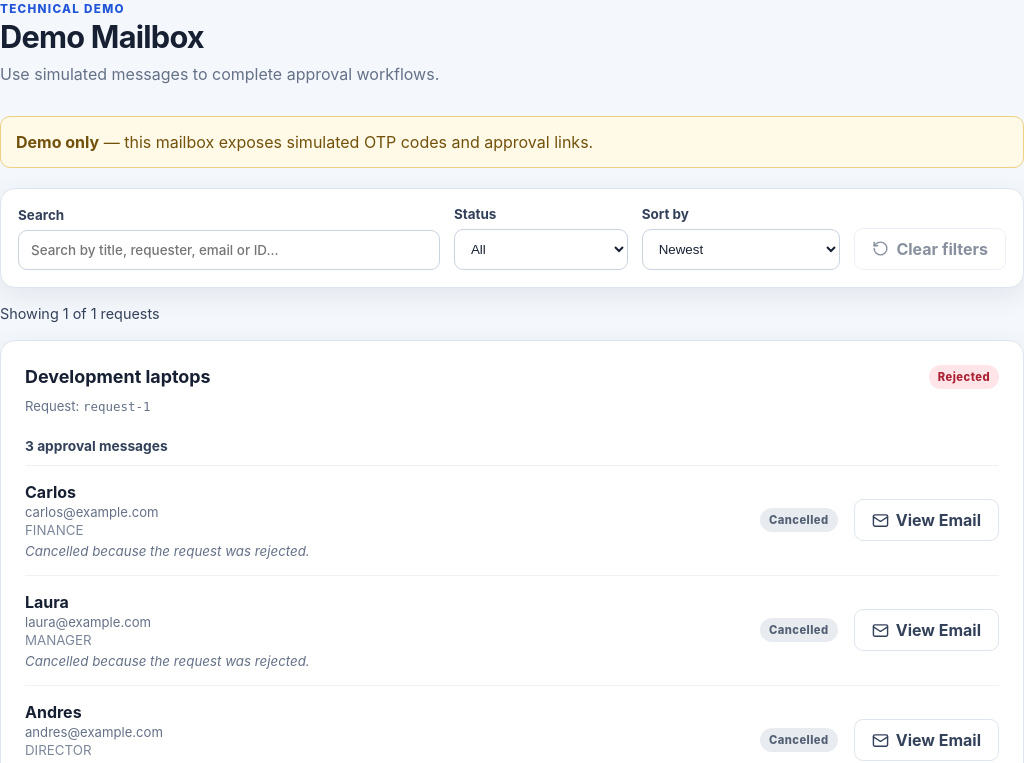
Test: MockMailPage › for request REJECTED and approver PENDING shows Request closed
Click the button "View Email" in the row of "carlos@example.com" at point(926, 520), box [854,499,999,541]
(page scrolled)
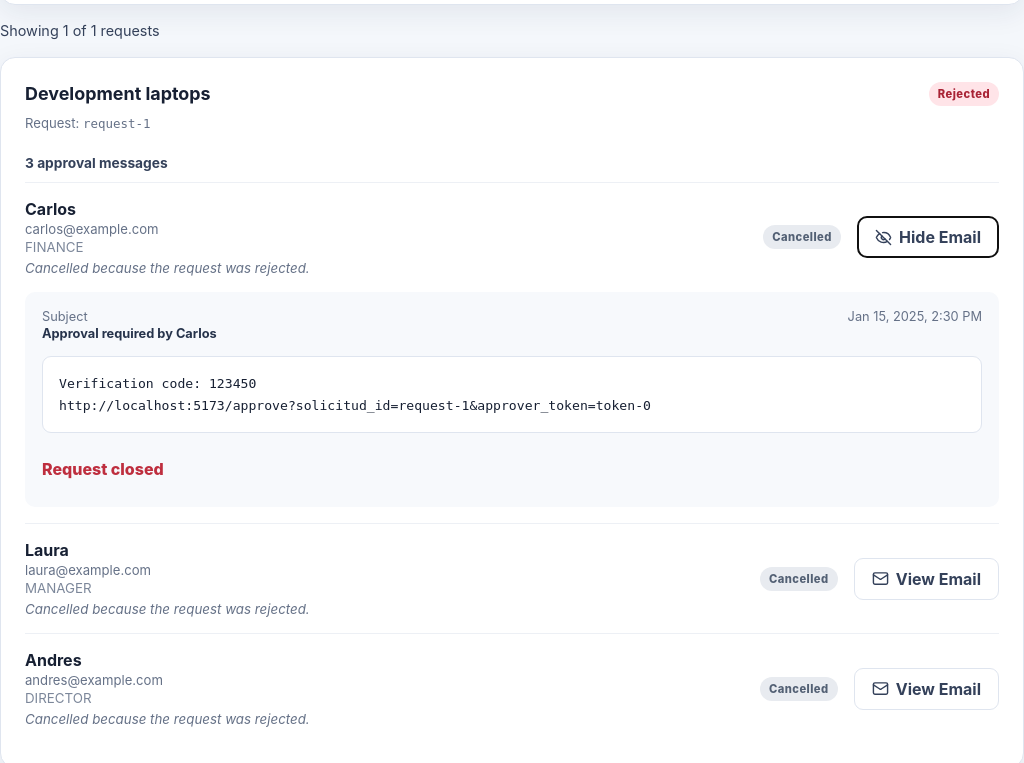
Check: the text "Request closed" is shown, box [42,459,164,479]
